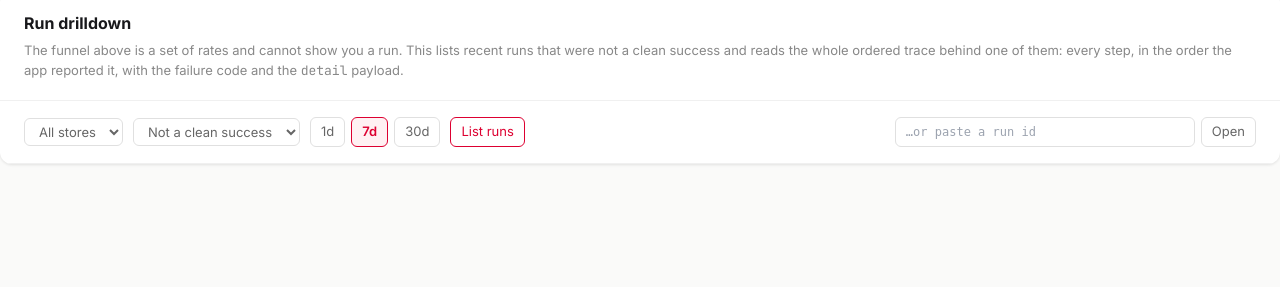
Test: AdminRunDrilldown › badges a run still in flight RUNNING, never ABANDONED
Click the button "List runs" at (488, 132), box [450,117,525,146]
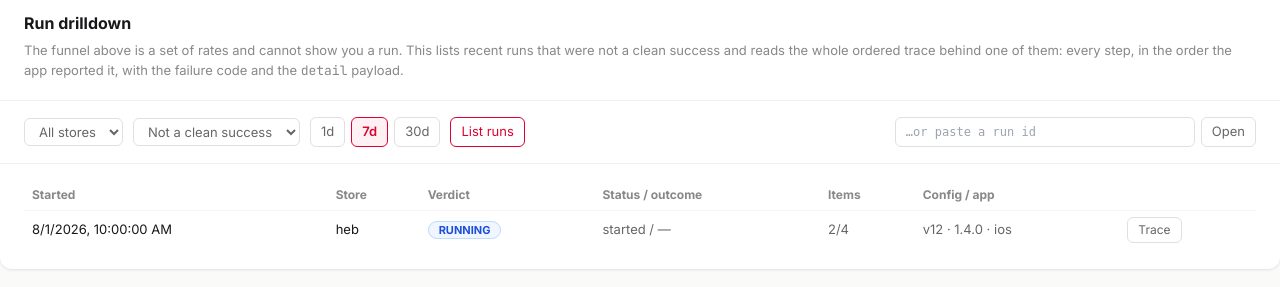
Expected: the text "RUNNING" is shown, [428,221,501,239]
